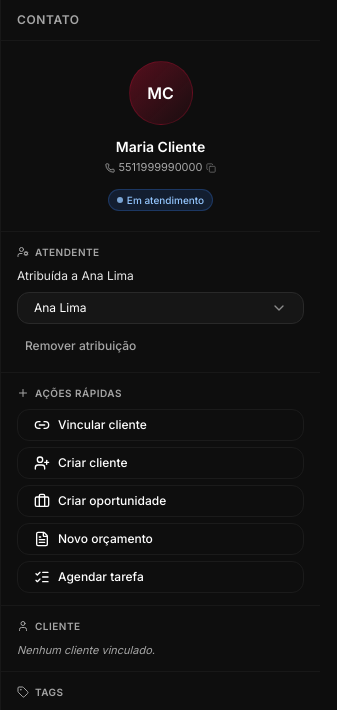
WhatsAppContactPanel — controle de atribuição (G101) › enquanto a atribuição roda o controle fica travado (sem duplo clique) e destrava depois
Click the button "Remover atribuição".
click(81, 346)  # box [17,332,144,360]
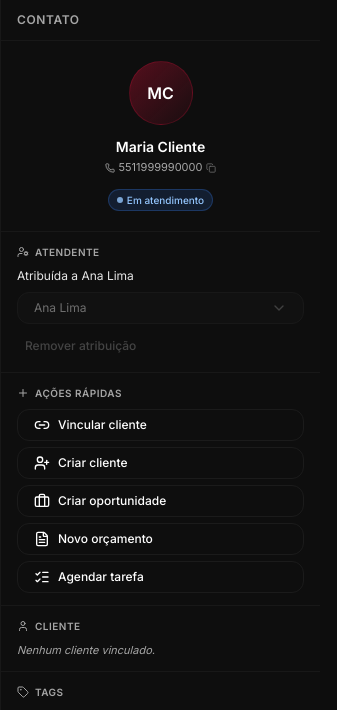
Now the button "Remover atribuição" is disabled
Now the dropdown named "Atribuir conversa a um atendente" is disabled, box [17,292,304,324]
Click the button "Remover atribuição".
click(81, 346)  # box [17,332,144,360]
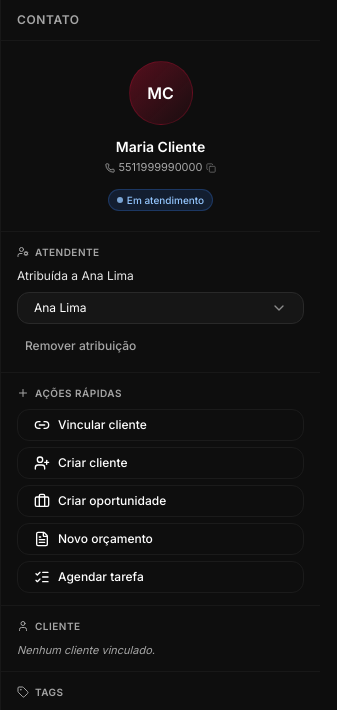
Now the button "Remover atribuição" is enabled, box [17,332,144,360]
